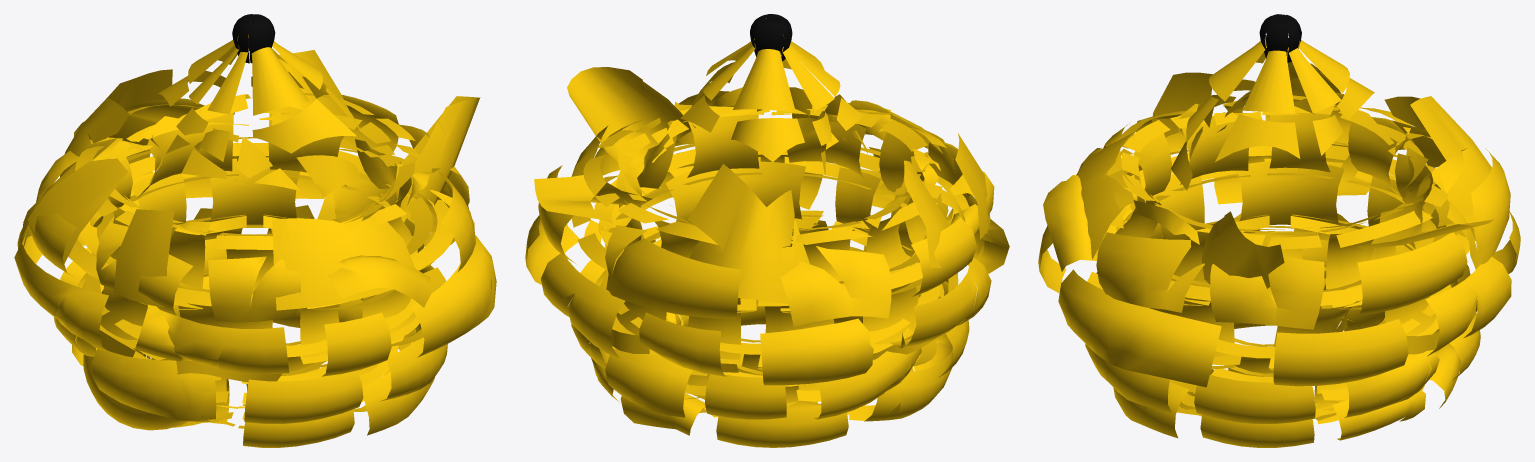
3 renders of one model, left to right at view 1: azimuth 30°, elevation 25°; view 2: azimuth 150°, elevation 25°; view 3: azimuth 270°, elevation 25°, orthographic.
Visible parts, largest first — view 1: Torus.006; view 2: Torus.006; view 3: Torus.006.
Boxes of the visible parts, x1,y1,x2,y2 form: Torus.006: (14,14,496,447); Torus.006: (525,14,1009,447); Torus.006: (1038,14,1520,447).
Size of the model in its own units: 104 by 87.73 by 104.
